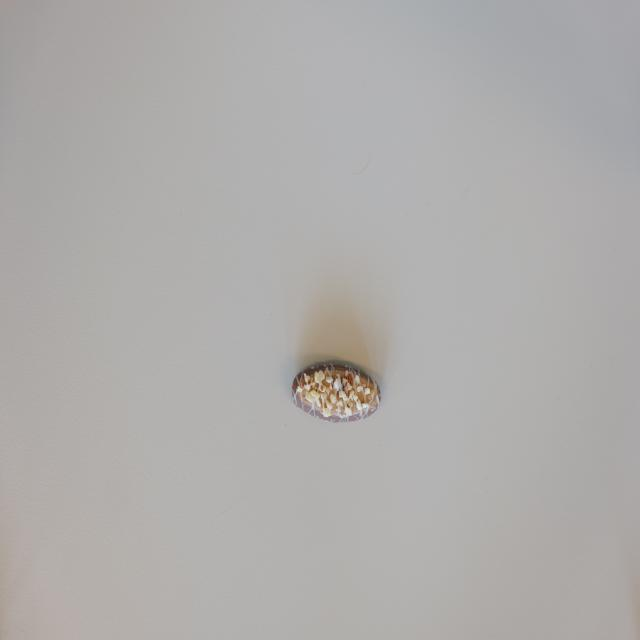Amandina: (292, 361, 381, 425)
